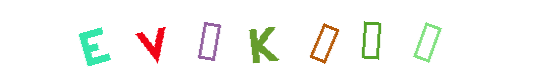3: (276, 0, 356, 80)
8: (164, 0, 244, 80), (256, 0, 336, 80)
9: (356, 0, 436, 80)
E: (52, 0, 132, 80)
K: (229, 0, 309, 80)
V: (113, 0, 193, 80)
